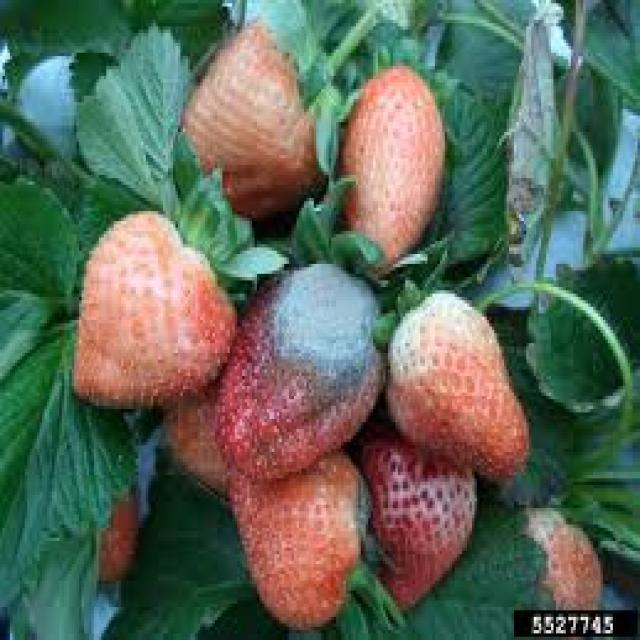Fruta sana: (75, 203, 229, 410), (182, 34, 319, 220), (208, 462, 364, 622), (340, 51, 434, 274)
Moho gris: (222, 247, 386, 470), (392, 290, 530, 476), (364, 441, 479, 611)
